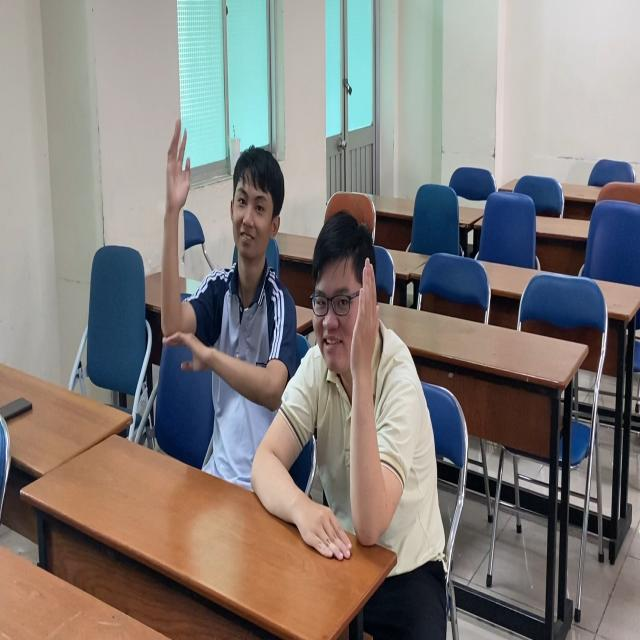raise_hand: (156, 105, 292, 500), (300, 204, 419, 577)
